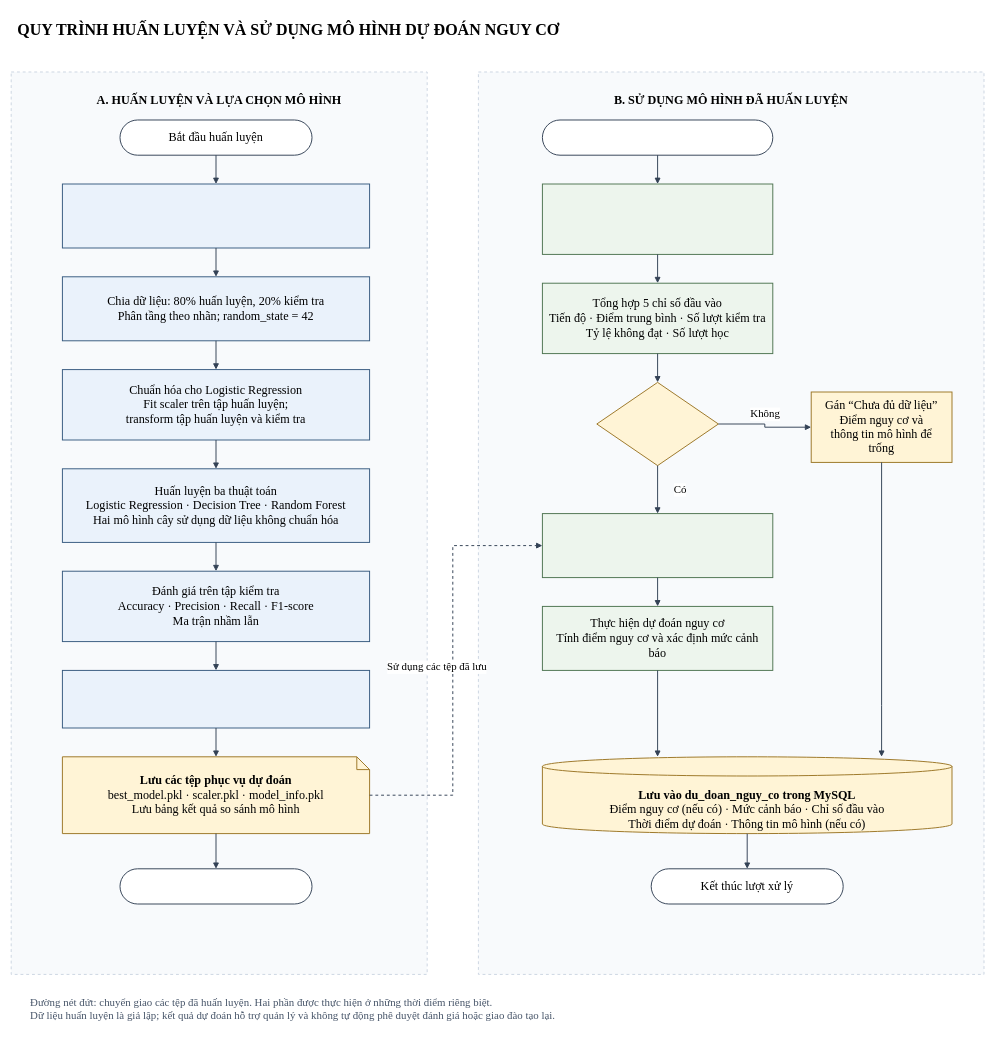
This 996x1046 diagram has some shape labels left out. Here are the shapes that lost their labels. From the top down, the box of each, then its label:
(542, 119, 773, 155): Bắt đầu lượt xử lý độc lập
(62, 183, 370, 248): Tạo 1.000 bản ghi giả lập 5 chỉ số đầu vào và nhãn competency_status
(542, 183, 773, 255): Đọc dữ liệu MySQL Nhân viên đang làm việc; dữ liệu học tập và kết quả kiểm tra
(596, 382, 719, 466): Có lượt kiểm tra và lượt học?
(542, 513, 773, 578): Nạp mô hình và thông tin đã lưu Chuẩn hóa đầu vào nếu mô hình yêu cầu
(62, 670, 370, 728): Lựa chọn mô hình theo F1-score trên tập kiểm tra hiện có
(119, 868, 312, 904): Kết thúc huấn luyện
